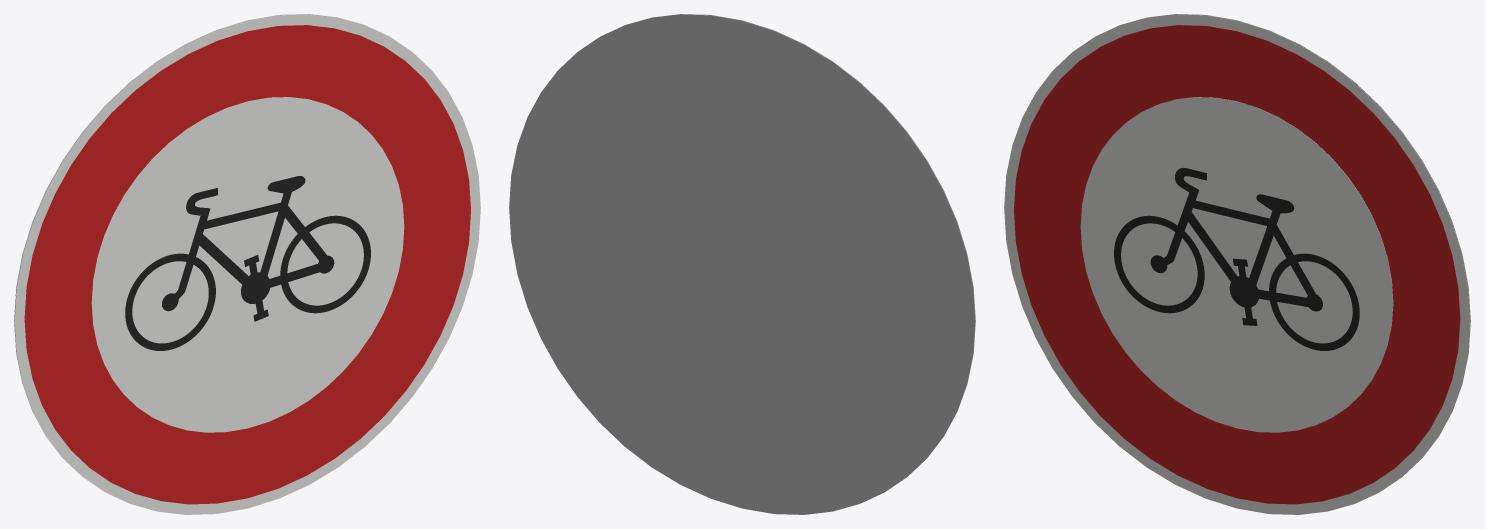
3 renders of one model, left to right at view 1: azimuth 30°, elevation 25°; view 2: azimuth 150°, elevation 25°; view 3: azimuth 330°, elevation 25°, orthographic.
Visible parts, largest first — view 1: B9b_p01, B9b_p02, B9b_p00, B9b_p03, B9b_dos; view 2: B9b_dos, B9b_p00; view 3: B9b_p01, B9b_p02, B9b_p00, B9b_p03, B9b_dos.
Part boxes in pixels (x1,y1,x2,y2): B9b_p01: (24,25,470,504); B9b_p02: (91,97,404,432); B9b_p00: (14,14,480,514); B9b_p03: (125,176,370,350); B9b_dos: (14,14,385,473); B9b_dos: (509,14,975,514); B9b_p00: (604,14,975,473); B9b_p01: (1014,25,1460,504); B9b_p02: (1080,97,1393,432); B9b_p00: (1004,14,1470,514); B9b_p03: (1114,167,1359,350); B9b_dos: (1099,14,1470,473).
Bounding box in the file's own units: 0.85 × 0.8498 × 0.0031.
